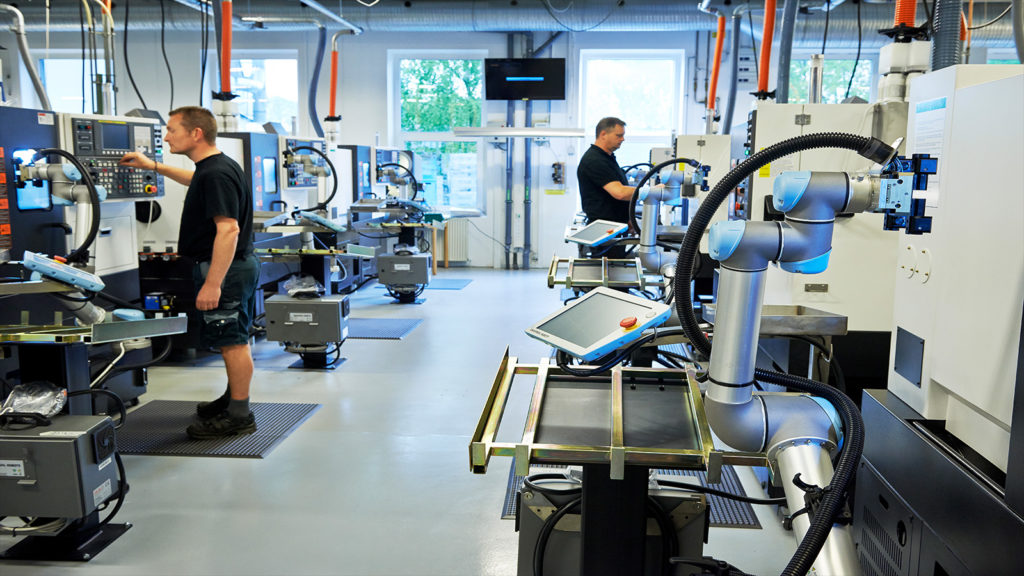person: (121, 107, 261, 440), (576, 116, 640, 258)
robot: (674, 128, 942, 576), (637, 164, 721, 304), (279, 144, 347, 264)
